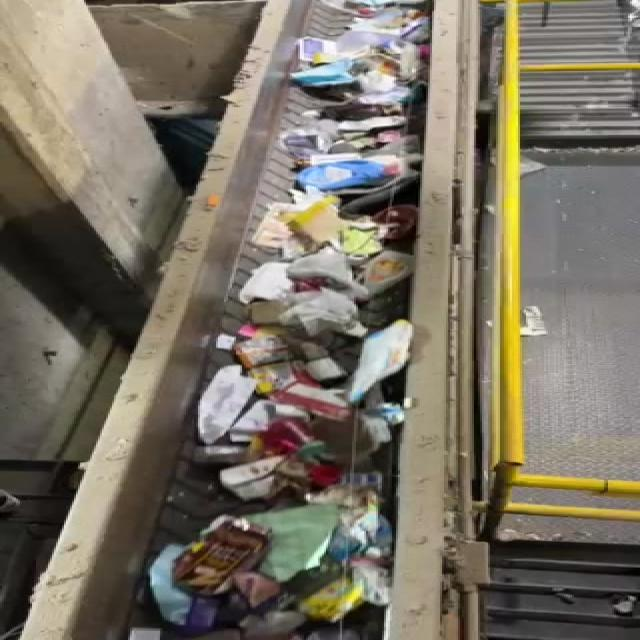hdpe: (345, 318, 423, 402)
paper: (164, 358, 266, 450), (214, 457, 346, 505)
pp: (147, 505, 281, 600)
